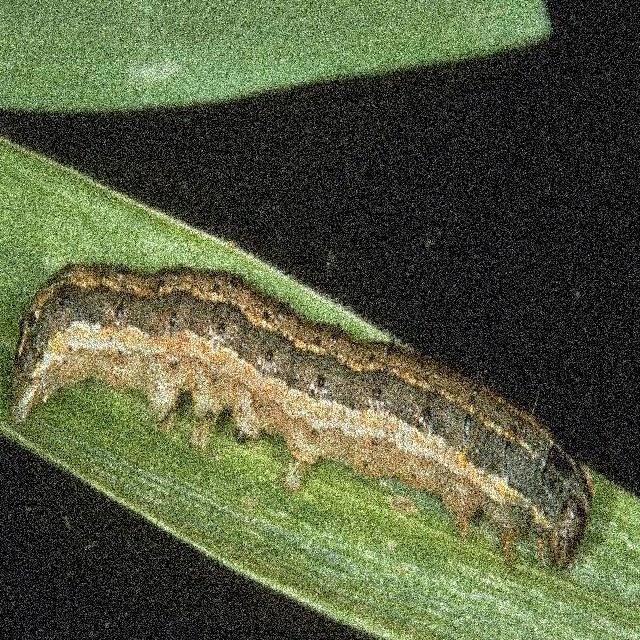worm: (9, 260, 595, 573)
